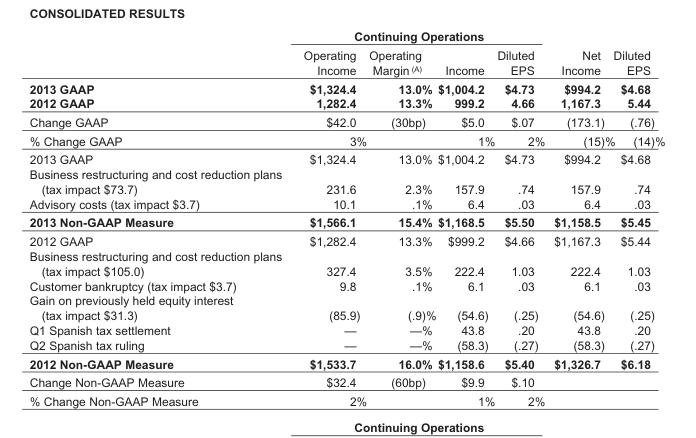table: (28, 28, 664, 407)
table column: (28, 28, 291, 407), (291, 28, 367, 407), (367, 28, 436, 407), (548, 28, 613, 407), (436, 28, 495, 407), (495, 28, 548, 407), (613, 28, 664, 407)
table column header: (28, 28, 664, 78)
table row: (28, 45, 664, 78), (28, 166, 664, 196), (28, 292, 664, 322), (28, 248, 664, 277), (28, 112, 664, 131), (28, 212, 664, 231), (28, 353, 664, 372), (28, 372, 664, 391), (28, 131, 664, 149), (28, 28, 664, 45), (28, 78, 664, 95), (28, 95, 664, 112), (28, 149, 664, 166), (28, 231, 664, 248), (28, 196, 664, 212), (28, 337, 664, 353), (28, 391, 664, 407), (28, 277, 664, 292), (28, 322, 664, 337)
table spanning cell: (291, 28, 548, 45), (548, 28, 613, 78), (613, 28, 664, 78)
